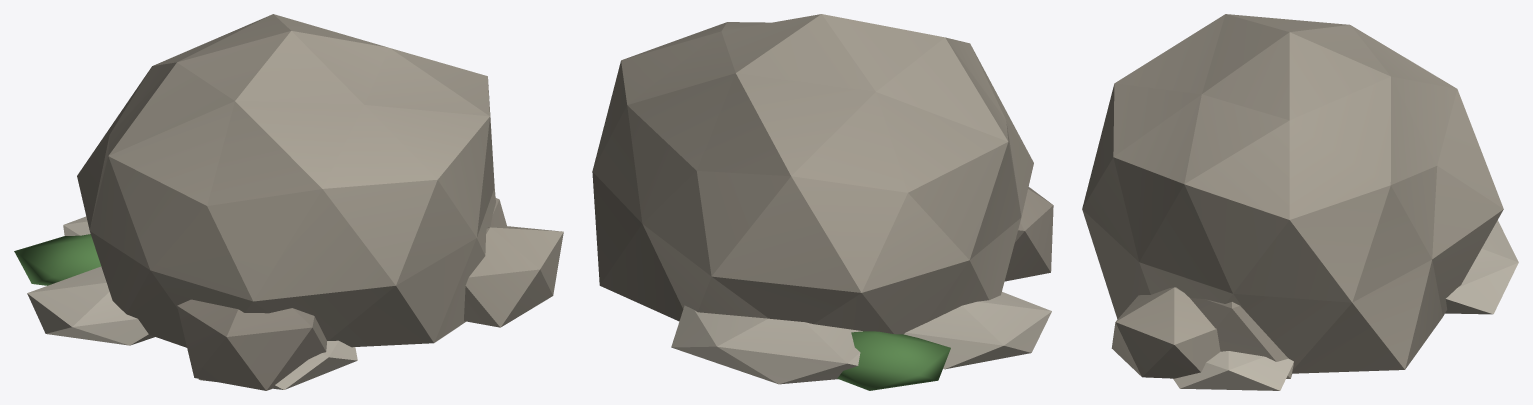
Rendered from rock.glb.
3 views of the same model, side by side, from view 1: azimuth 30°, elevation 25°; view 2: azimuth 150°, elevation 25°; view 3: azimuth 270°, elevation 25° (orthographic). The views are drawn at different scales.
Visible parts, largest first — view 1: rock.v0.mesh, rock.v2.mesh, rock.v1.mesh; view 2: rock.v0.mesh, rock.v2.mesh, rock.v1.mesh; view 3: rock.v0.mesh, rock.v2.mesh, rock.v1.mesh.
Boxes of the visible parts, box(x1,y1,x2,y2) form: rock.v0.mesh: box(77, 14, 563, 347); rock.v2.mesh: box(14, 216, 357, 389); rock.v1.mesh: box(177, 198, 506, 390); rock.v0.mesh: box(592, 14, 1033, 334); rock.v2.mesh: box(671, 292, 1051, 390); rock.v1.mesh: box(1004, 187, 1053, 281); rock.v0.mesh: box(1082, 14, 1503, 378); rock.v2.mesh: box(1173, 220, 1518, 390); rock.v1.mesh: box(1190, 298, 1293, 378).
Bounding box in the file's own units: 0.8751 × 0.4989 × 0.7577.
